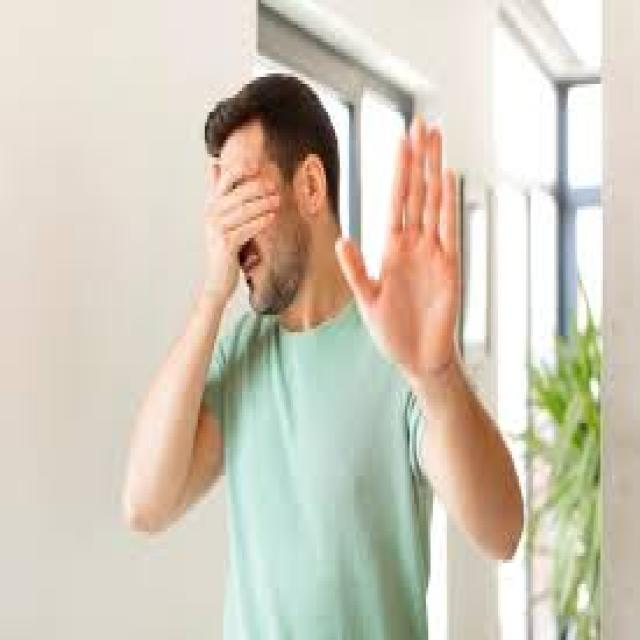7_mano_rostro: (186, 155, 282, 338)
